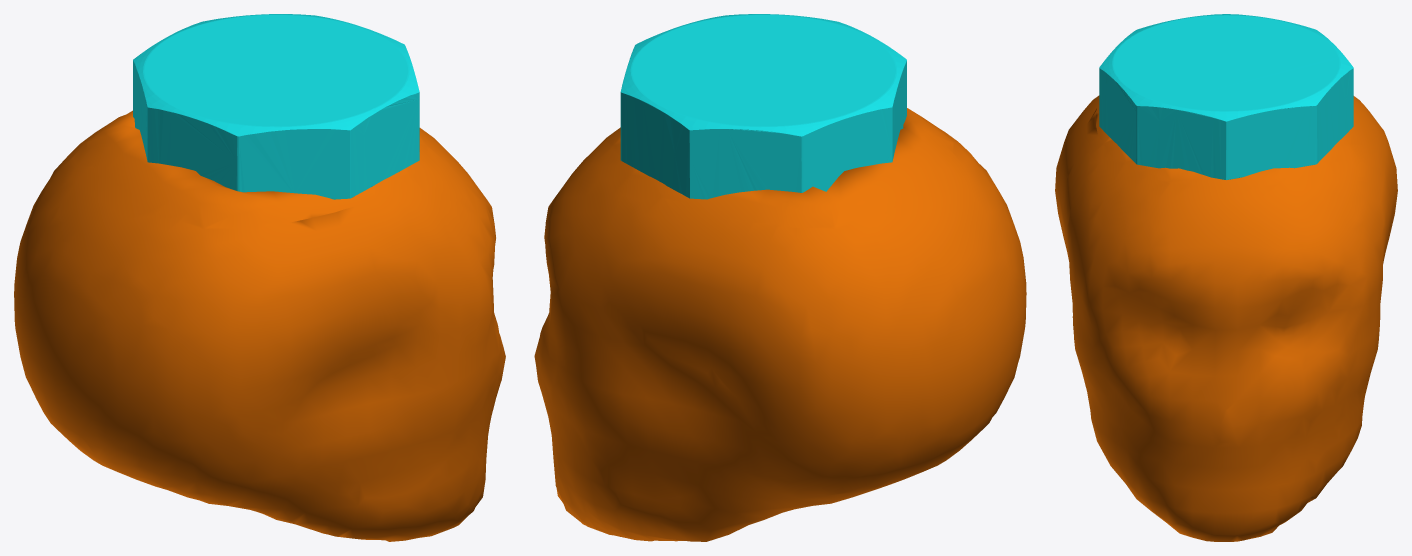
Rendered from inflated.glb.
3 renders of one model, left to right at view 1: azimuth 30°, elevation 25°; view 2: azimuth 150°, elevation 25°; view 3: azimuth 270°, elevation 25°, orthographic. The views are drawn at different scales.
Parts seen in each view (by area): view 1: skull, bolt; view 2: skull, bolt; view 3: skull, bolt.
Part boxes in pixels (x1=…): skull: x1=14, y1=110, x2=505, y2=541; bolt: x1=133, y1=14, x2=419, y2=199; skull: x1=534, y1=108, x2=1026, y2=541; bolt: x1=620, y1=14, x2=906, y2=199; skull: x1=1055, y1=95, x2=1397, y2=541; bolt: x1=1099, y1=14, x2=1353, y2=179.
Bounding box in the file's own units: 2.21 × 2.38 × 1.78.
